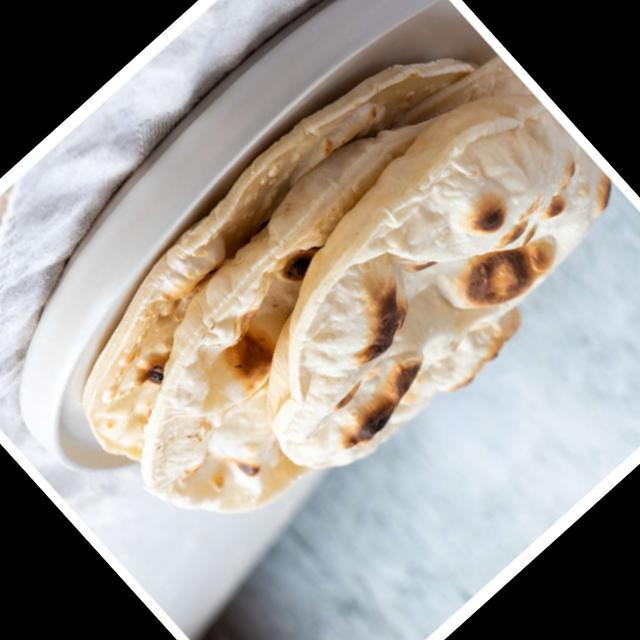roti: (75, 52, 616, 517)
